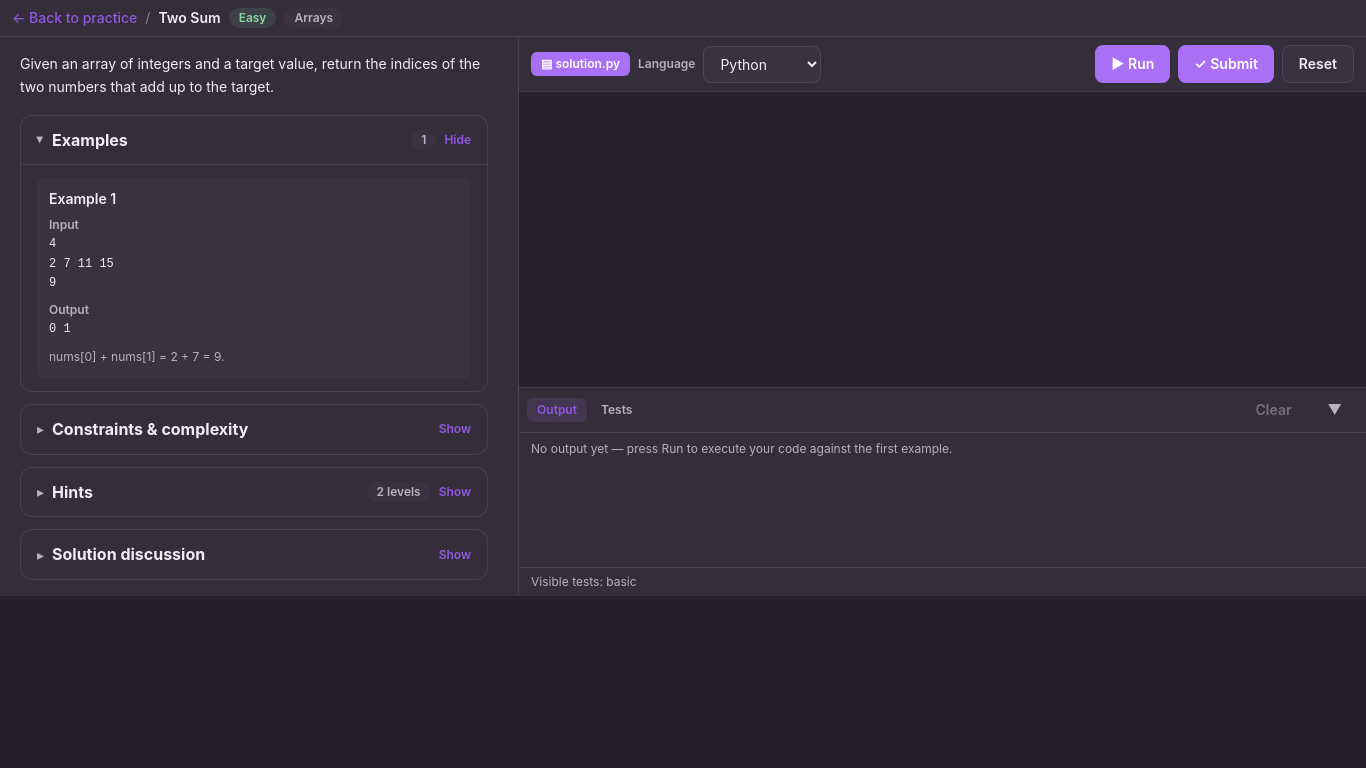
Test case: DsaProblemPage language selector (all 8 languages) › sends the selected language with the run request
This screenshot has width=1366, height=768.
Select "Rust" in the dropdown labelled "Language" at (762, 64), box x1=703 y1=46 x2=821 y2=82
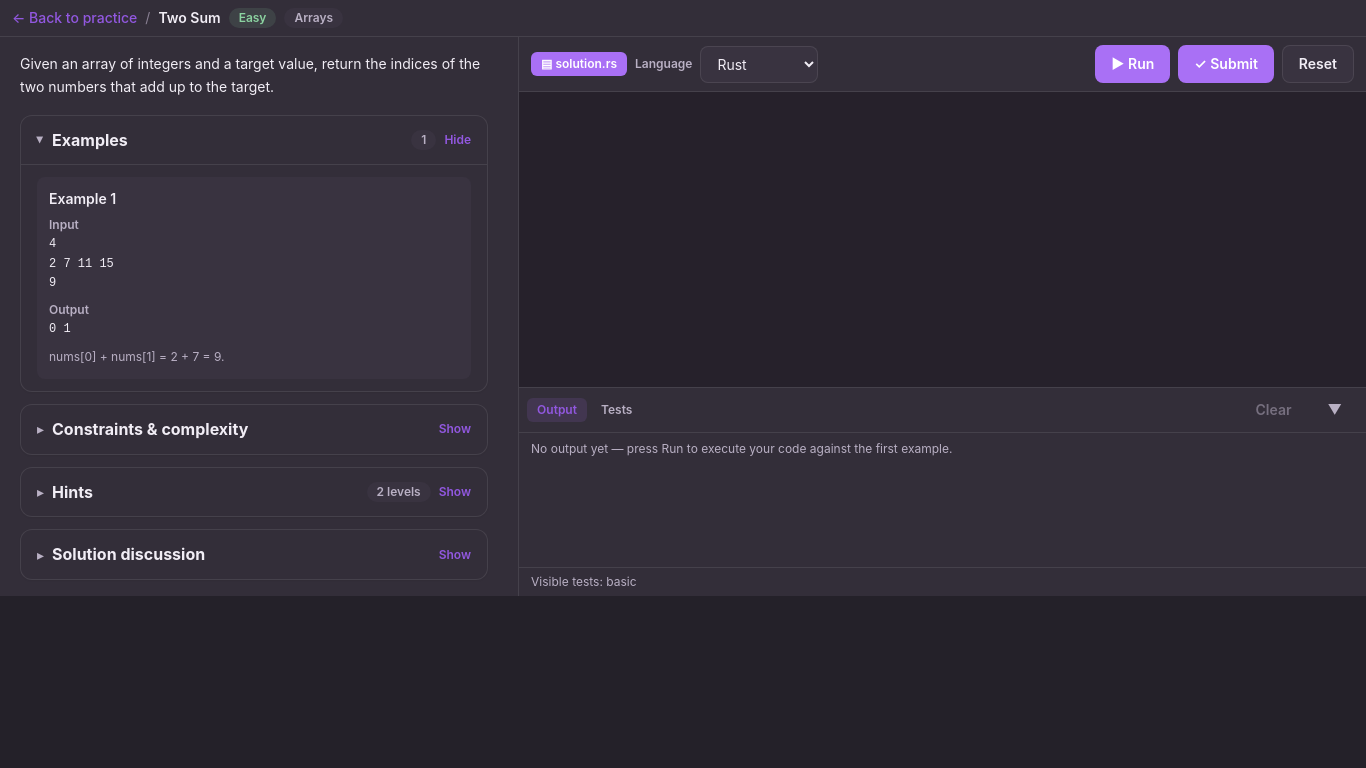
Click the button "▶ Run" at (1133, 64), box x1=1095 y1=45 x2=1170 y2=83
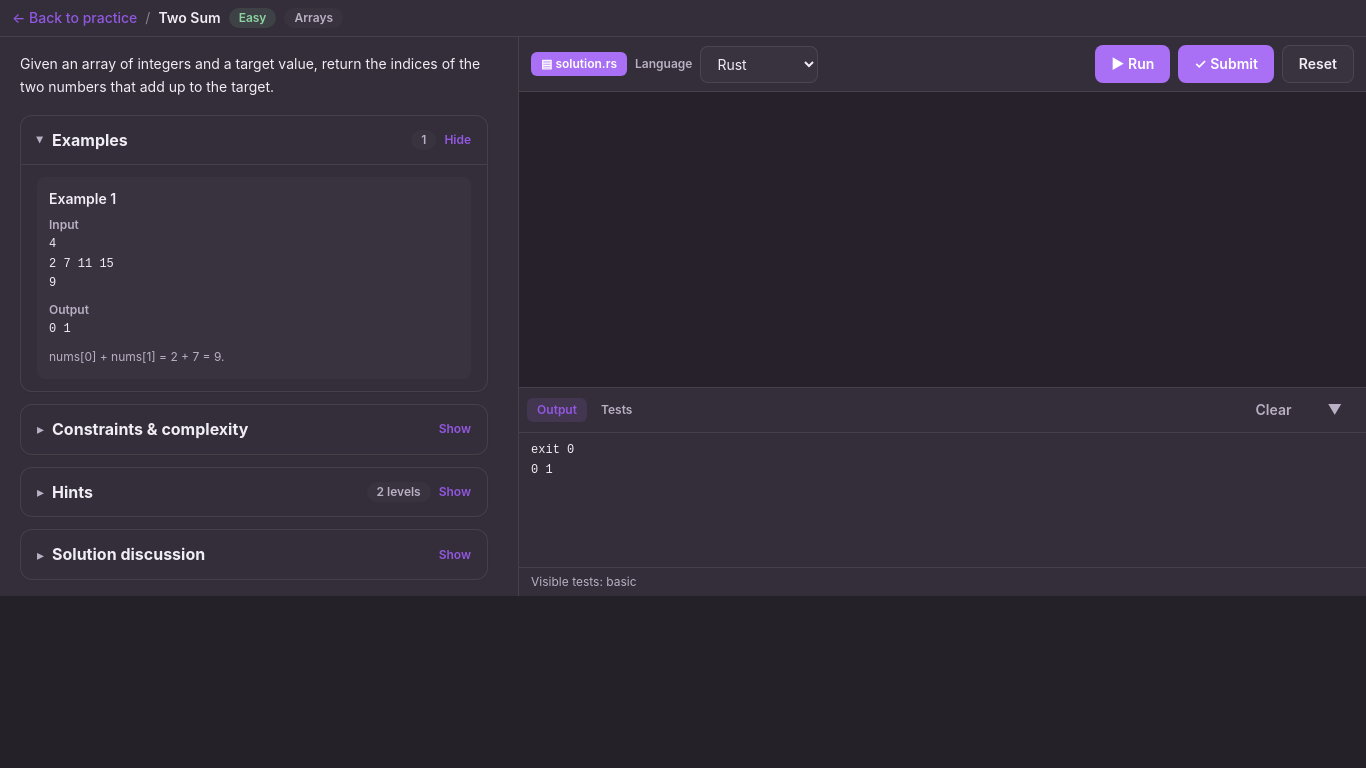
Check: the text "exit 0 0 1" is shown, box x1=531 y1=443 x2=574 y2=477
